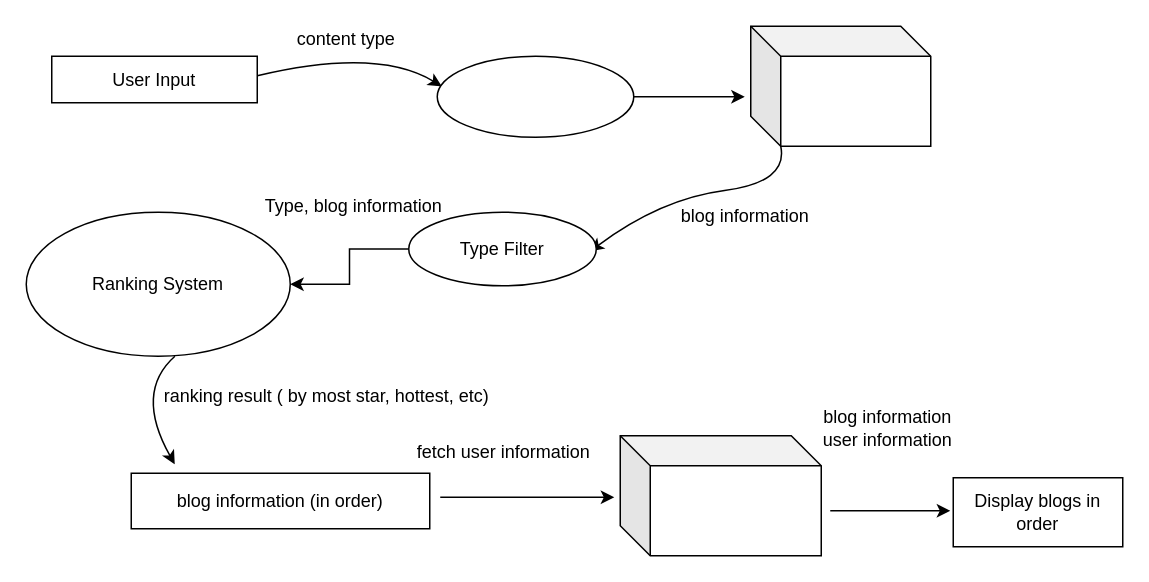
The diagram is 1149 pixels wide and 582 high, and some of its shapes have lost their labels. The shapes that lost their labels are listed below. From the top down, each one's centre as x and y in pixels, then its label:
At point 535,96: "create blog".
At point 840,85: "Question database".
At point 720,495: "User database".
